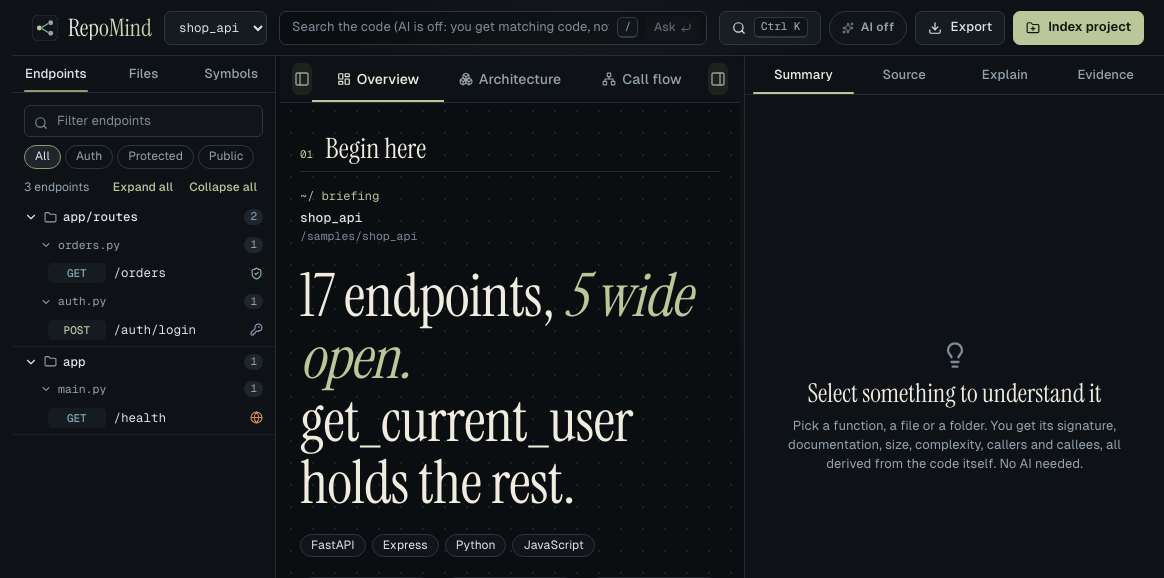
Test: Architecture map › does not re-open the folder after you go back to the root
Expected: the heading "shop_api" is shown, x1=300 y1=209 x2=362 y2=226
Click the tab "Architecture". click: (510, 79)
box: x1=444 y1=56 x2=576 y2=102
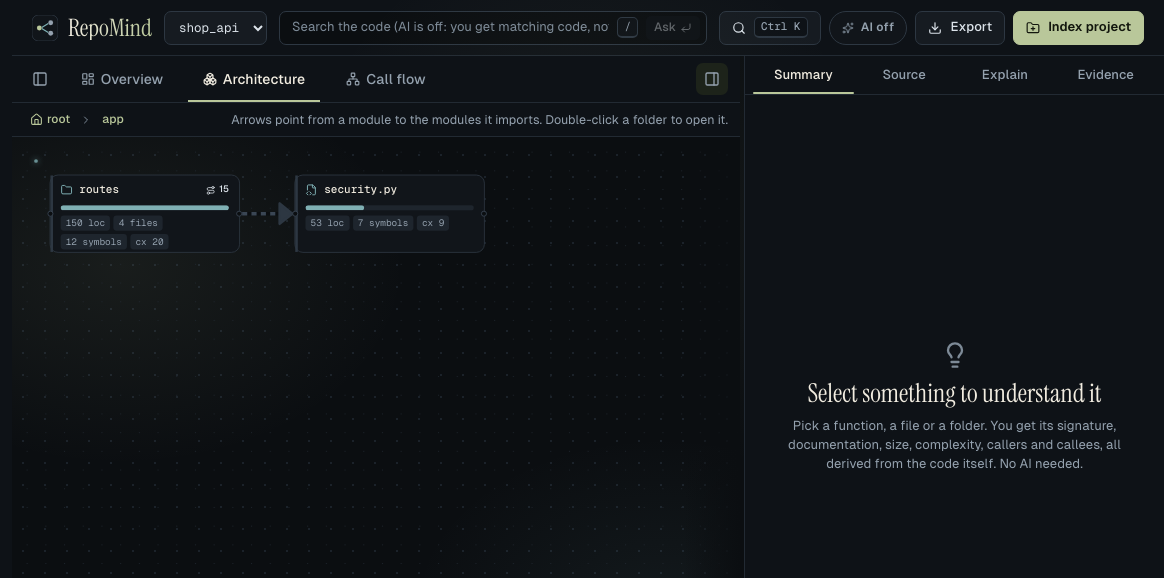
Expected: the text "security.py" is shown, x1=324 y1=183 x2=397 y2=199
Click the button with aria-label "Repository root". click: (50, 120)
box: x1=24 y1=109 x2=76 y2=130
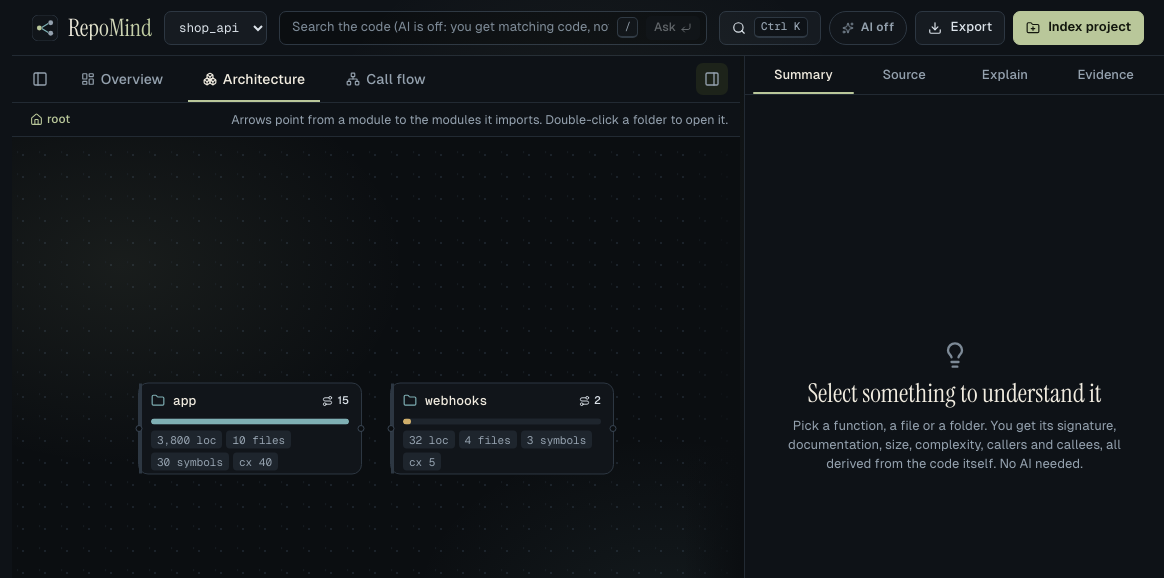
Expected: the text "webhooks" is shown, x1=425 y1=392 x2=487 y2=411
